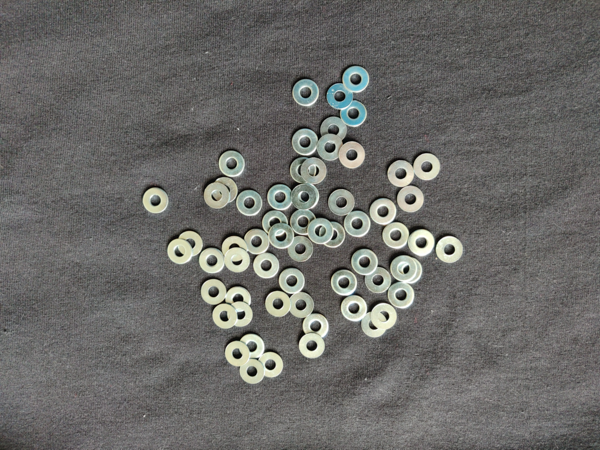circle: (408, 229, 436, 257), (387, 161, 415, 188), (370, 198, 398, 225), (343, 66, 370, 93), (340, 100, 367, 127), (328, 189, 355, 216), (307, 218, 334, 245), (225, 286, 252, 313), (279, 268, 306, 295), (391, 255, 418, 282), (388, 282, 415, 309), (397, 187, 425, 213), (327, 84, 354, 110), (321, 117, 347, 144), (339, 142, 365, 169), (292, 129, 318, 156), (212, 177, 238, 204), (143, 187, 169, 214), (414, 154, 441, 180), (290, 158, 317, 184), (291, 184, 317, 211), (236, 190, 263, 216), (267, 184, 293, 211), (268, 224, 295, 250), (383, 223, 410, 249), (437, 237, 463, 264), (352, 249, 378, 276), (395, 258, 422, 284), (371, 303, 397, 330), (253, 252, 279, 279), (293, 80, 319, 106), (318, 135, 344, 161), (219, 151, 245, 177), (204, 183, 230, 209), (178, 231, 204, 257), (168, 239, 194, 265), (301, 158, 327, 184), (320, 222, 346, 248), (345, 211, 371, 237), (244, 229, 270, 255), (222, 236, 248, 262), (199, 248, 225, 274), (201, 279, 227, 305), (299, 333, 325, 359), (332, 270, 358, 296), (341, 296, 367, 322), (239, 334, 265, 360), (225, 341, 251, 367), (266, 291, 291, 318), (303, 314, 330, 339), (365, 268, 392, 293), (294, 184, 320, 209), (262, 211, 288, 236), (291, 210, 317, 235), (288, 236, 313, 262), (224, 248, 250, 273), (228, 301, 253, 327), (289, 292, 314, 318), (361, 313, 387, 338), (258, 352, 283, 378), (213, 304, 238, 329), (240, 359, 265, 384)
